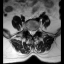CCS_normal: (31, 27, 33, 37)
LFS_normal: (35, 26, 37, 34)
LLS_normal: (33, 27, 35, 36)
RFS_normal: (27, 26, 29, 34)
RLS_normal: (29, 27, 31, 36)
